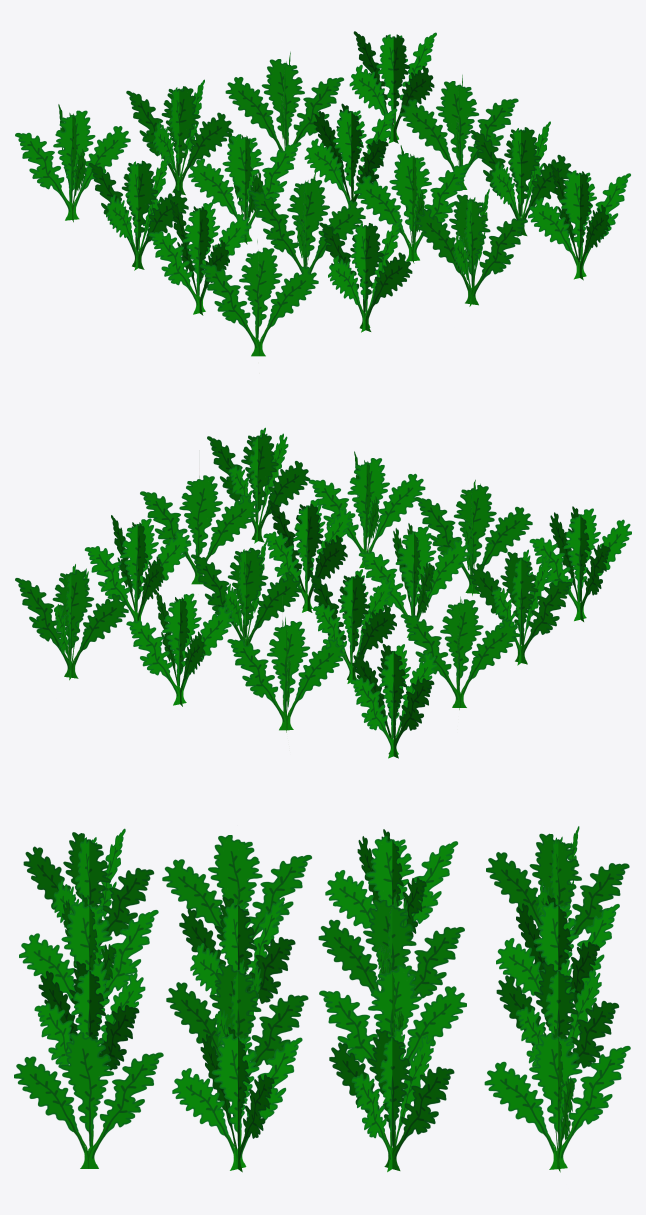
Rendered from carrot_1.glb.
3 renders of one model, top to bottom at view 1: azimuth 30°, elevation 25°; view 2: azimuth 150°, elevation 25°; view 3: azimuth 270°, elevation 25°, orthographic. The views are drawn at different scales.
Parts seen in each view (by area): view 1: Carrot_F2; view 2: Carrot_F2; view 3: Carrot_F2.
Boxes of the visible parts, left/top/right/bottom form: Carrot_F2: left=15, top=31, right=630, bottom=356; Carrot_F2: left=15, top=427, right=631, bottom=758; Carrot_F2: left=14, top=826, right=630, bottom=1172.
Size of the model in its own units: 2.16 by 0.5264 by 2.16.
Materials: 1 (1 with a texture image).
